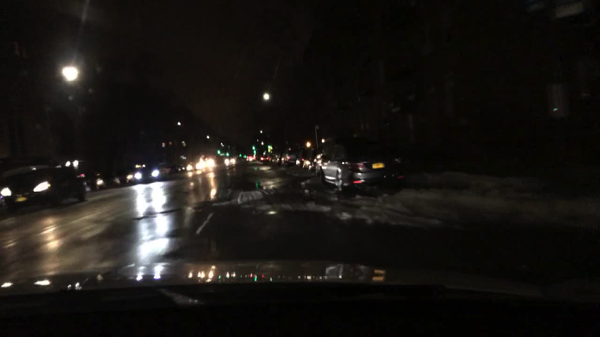car: (317, 136, 403, 195), (0, 163, 89, 214), (132, 162, 171, 184), (194, 154, 220, 172), (303, 149, 315, 171), (313, 152, 324, 174), (281, 151, 295, 167), (296, 147, 305, 167), (268, 153, 279, 165), (223, 156, 235, 167), (259, 153, 271, 162), (244, 154, 254, 161)
traffic light: (251, 144, 256, 150)
